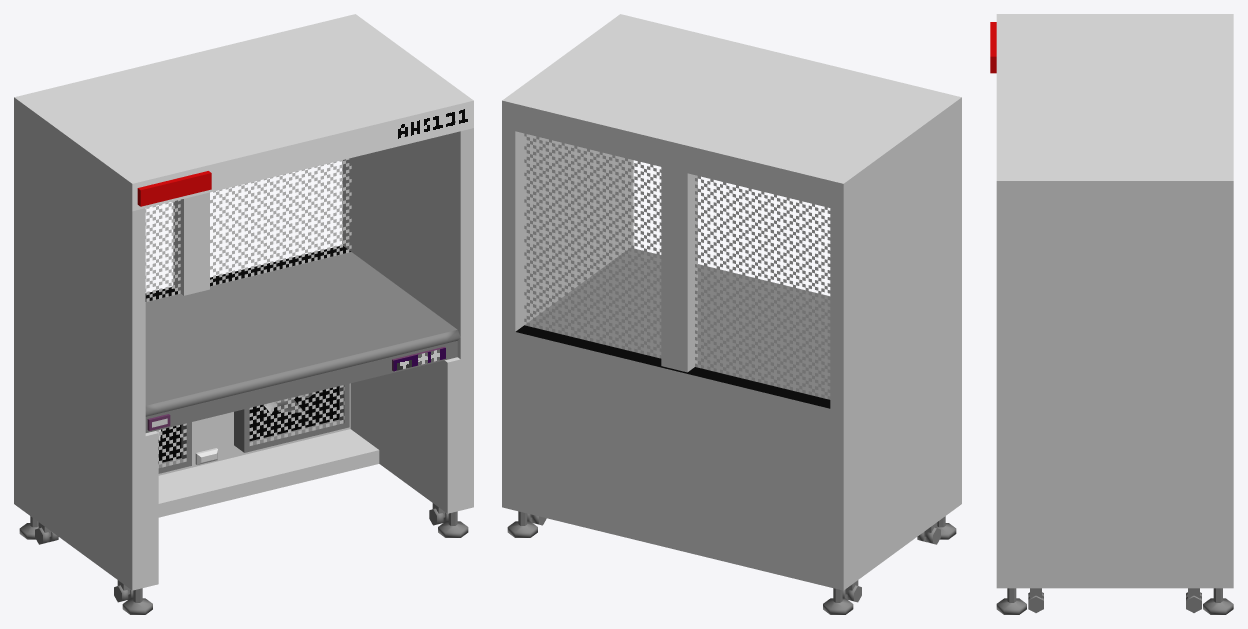
File: cleanbench.fbx
The picture shows the model from 3 angles, left to right: view 1: azimuth 30°, elevation 25°; view 2: azimuth 150°, elevation 25°; view 3: azimuth 270°, elevation 25°; orthographic projection.
Parts seen in each view (by area): view 1: body, kankisen, porl, Cube, Cylinder, concent_ctrPanel, Cylinder.001; view 2: body, porl, Cylinder, Cylinder.001; view 3: body, Cylinder, Cylinder.001, Cube.
Part boxes in pixels (box(x1,y1,x2,y2)): body: box(14, 14, 473, 590); kankisen: box(156, 383, 349, 473); porl: box(173, 192, 209, 295); Cube: box(137, 171, 211, 206); Cylinder: box(19, 511, 468, 614); concent_ctrPanel: box(147, 346, 445, 464); Cylinder.001: box(35, 503, 448, 602); body: box(502, 14, 961, 590); porl: box(661, 167, 697, 372); Cylinder: box(507, 511, 956, 614); Cylinder.001: box(527, 513, 940, 602); body: box(996, 14, 1233, 588); Cylinder: box(996, 588, 1233, 614); Cylinder.001: box(1028, 588, 1201, 612); Cube: box(990, 22, 996, 73).
Bounding box in the file's own units: 130 × 158 × 80.
Materials: 8 (1 with a texture image).
